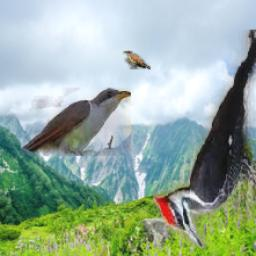Cuckoo: (22, 88, 132, 156), (123, 51, 151, 71)
Woodpecker: (153, 30, 256, 248)
